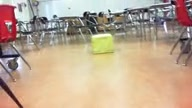cube: (91, 34, 114, 54)
